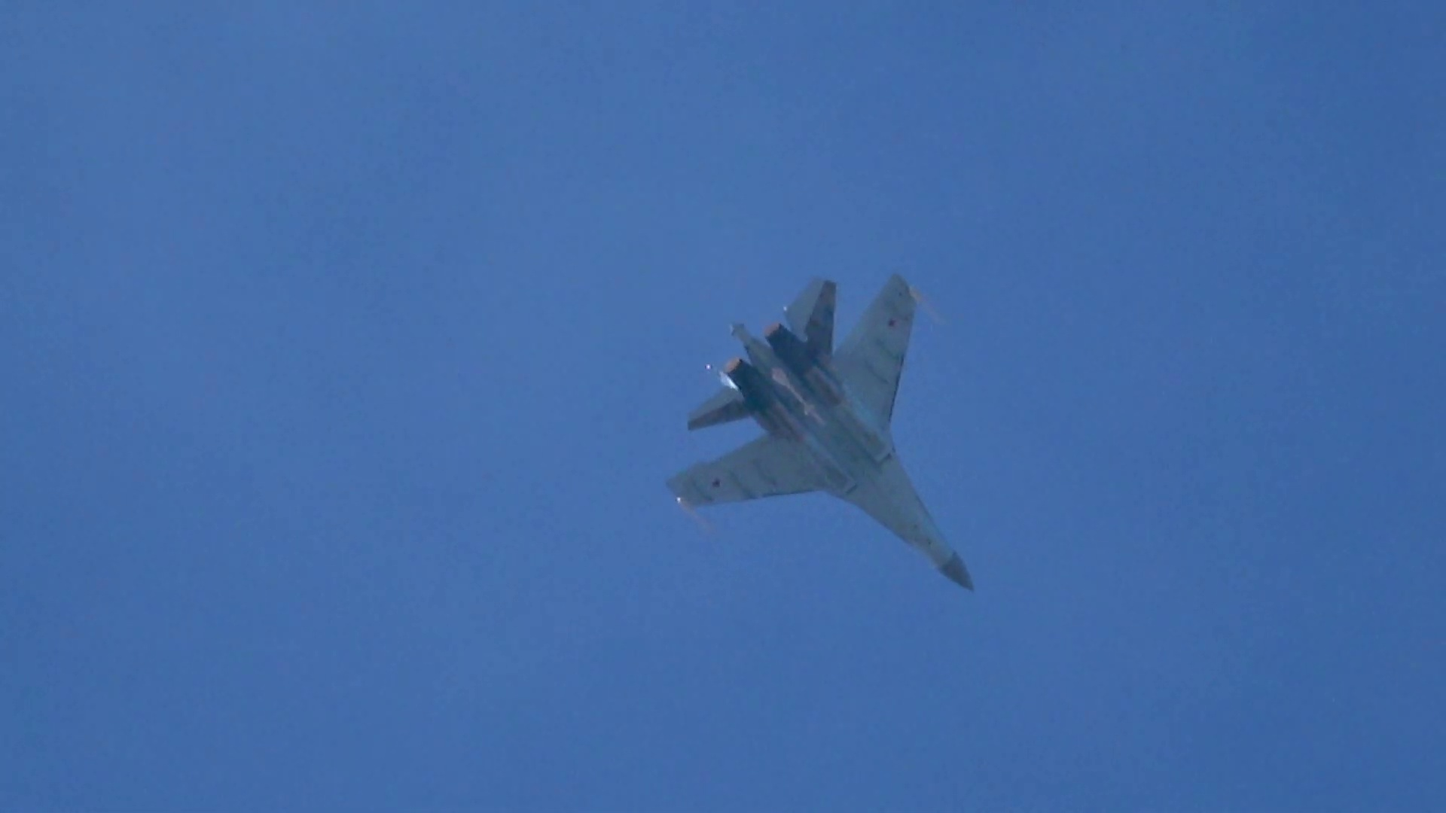Su35: (665, 275, 974, 590)
